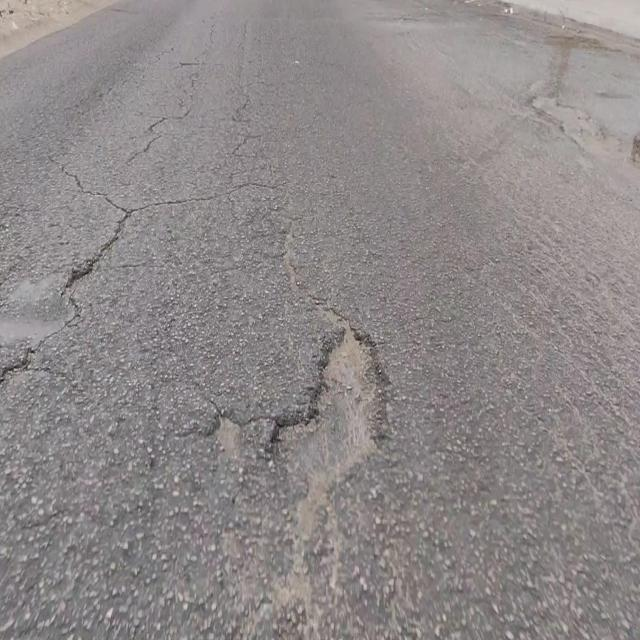Potholes: (266, 320, 386, 493)
